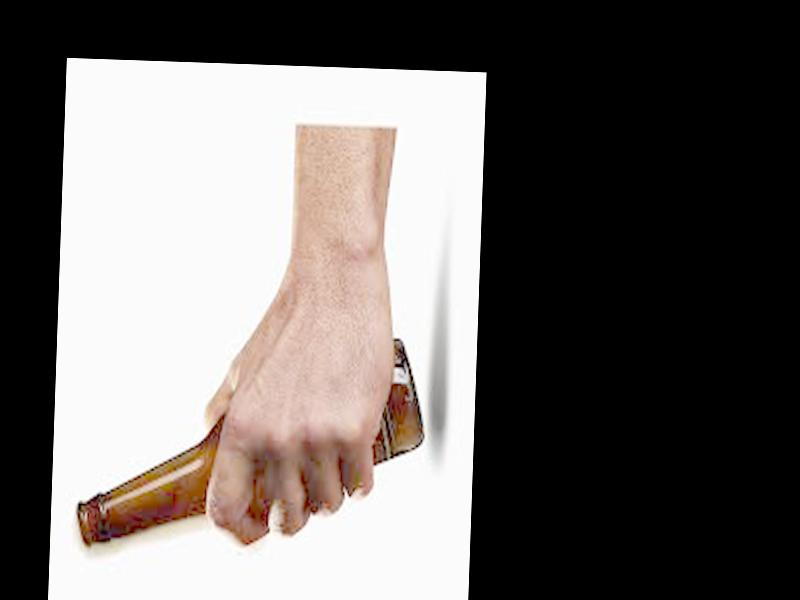Beer: (76, 327, 432, 559)
